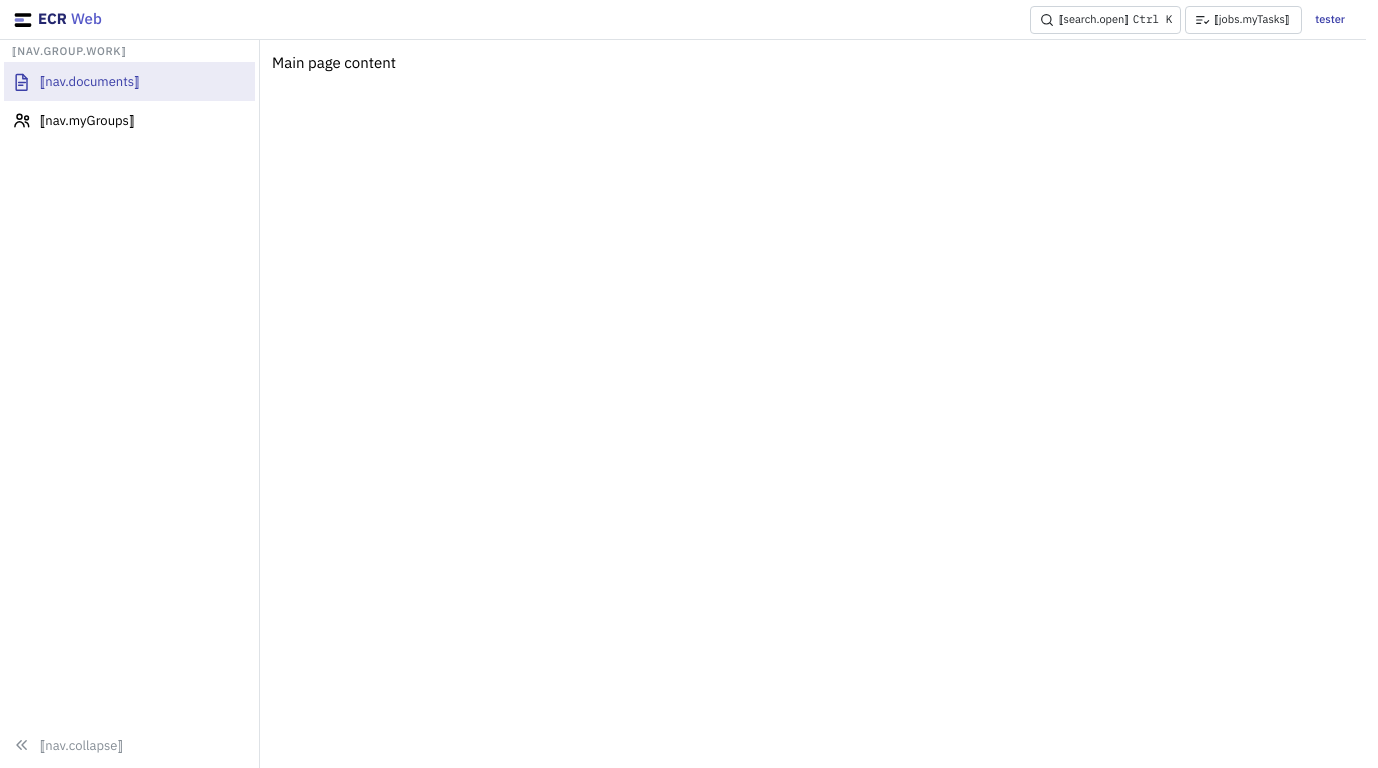
it: AppLayout → UserMenu: зміна пароля доступна з меню профілю (R-14) › пункт меню веде на /change-password
This screenshot has width=1378, height=768.
Click the button "tester".
click(1330, 20)  # box [1306,8,1354,32]
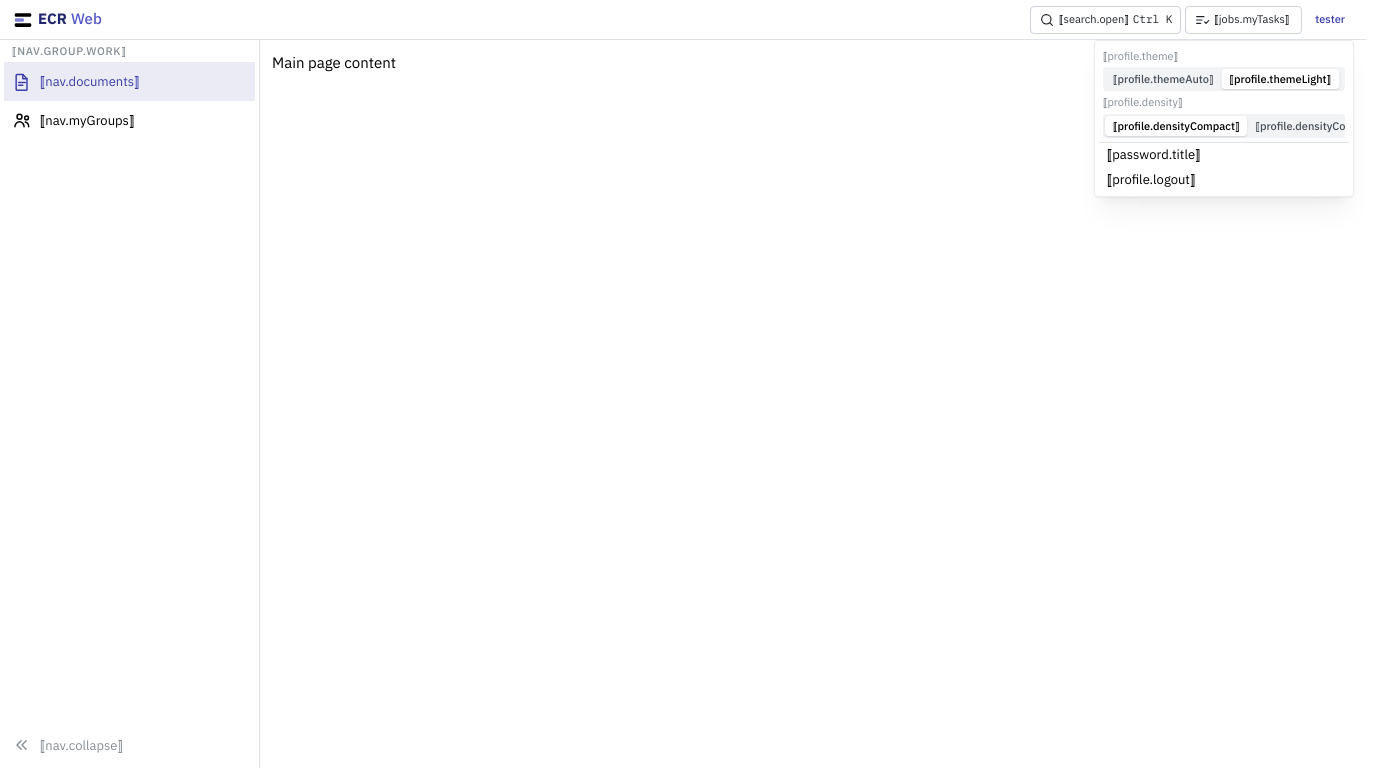
Now the menu item "⟦profile.logout⟧" is shown, box [1099,167,1349,192]
Click the menu item "⟦password.title⟧".
click(1224, 154)  # box [1099,142,1349,167]
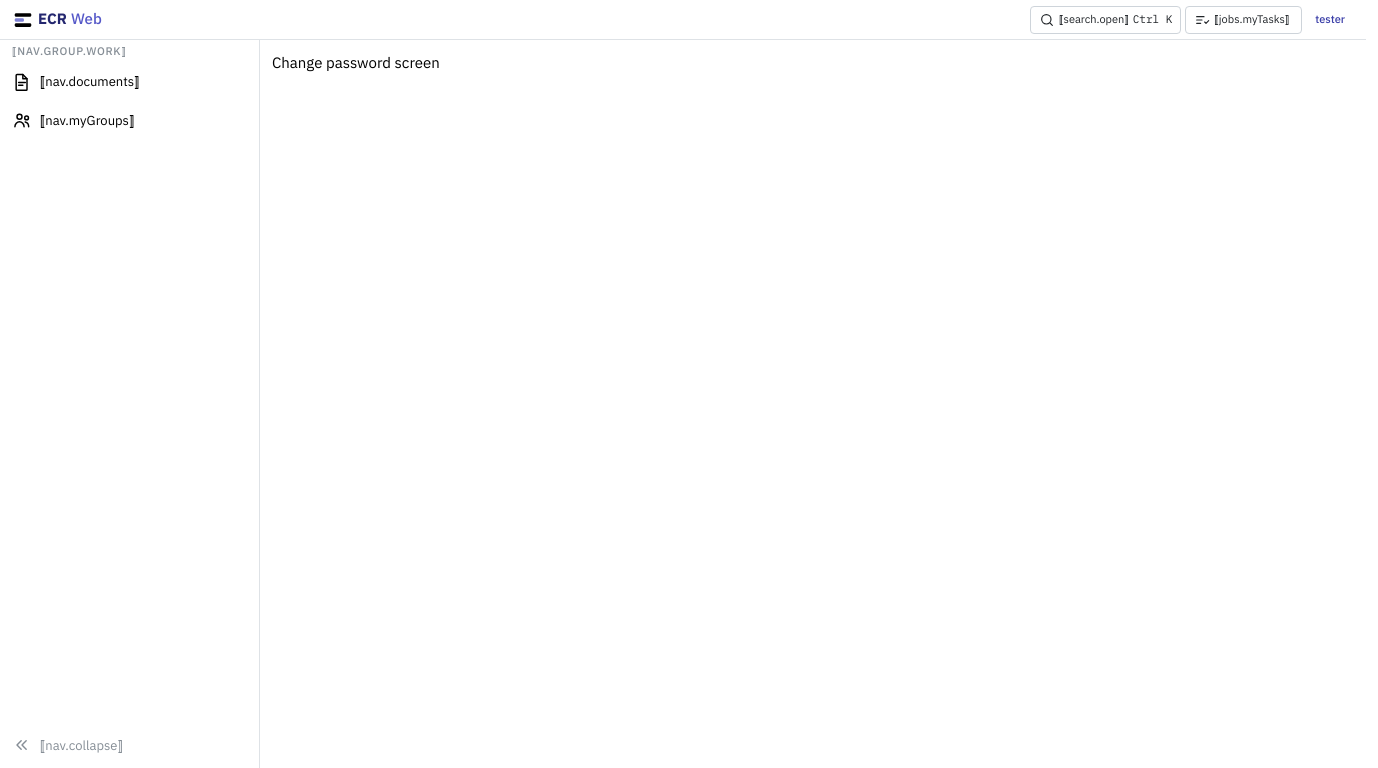
Now the text "Change password screen" is shown, box [272,53,440,72]
